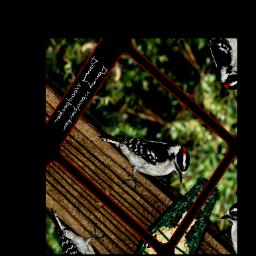Woodpecker: (87, 95, 199, 219)
